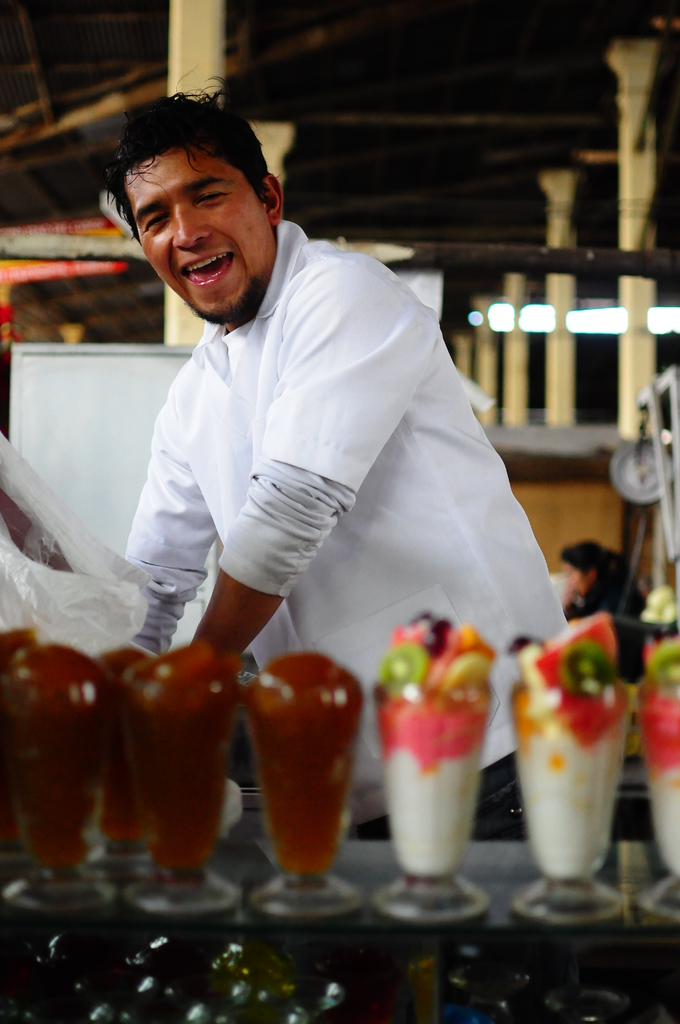Person: (93, 63, 575, 840), (566, 543, 651, 683)
